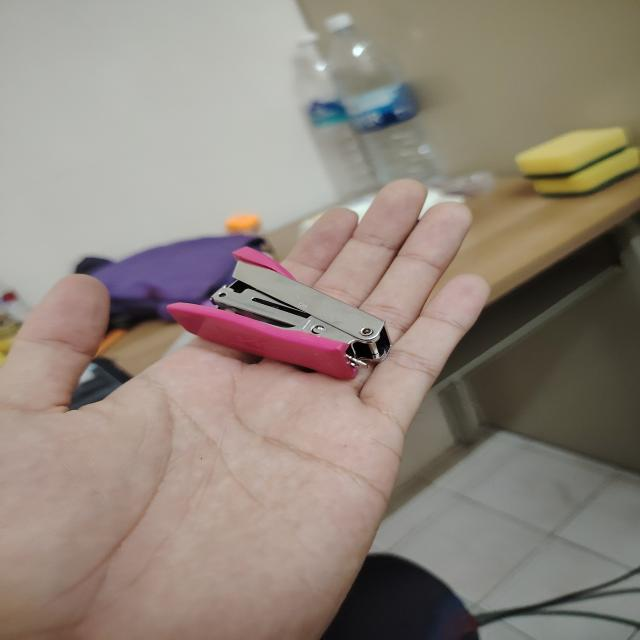stapler: (168, 248, 391, 379)
